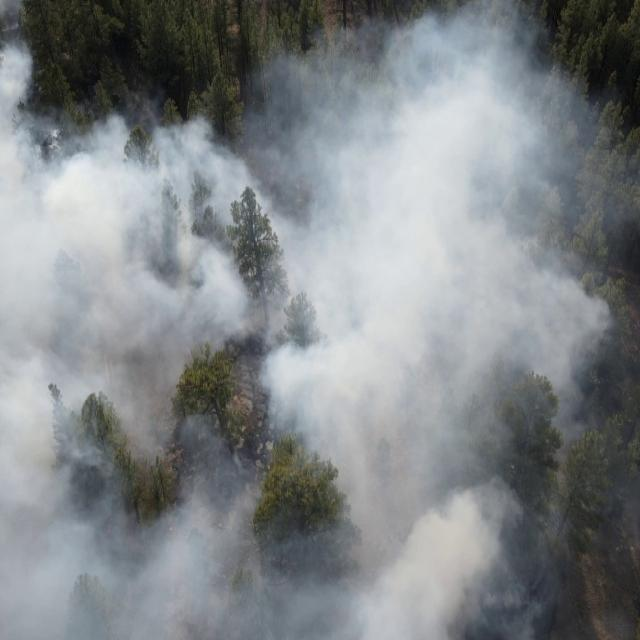smoke: (0, 114, 640, 640), (258, 46, 589, 114), (314, 0, 544, 45), (0, 0, 33, 114)
